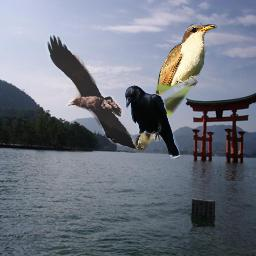Crow: (45, 33, 138, 152), (124, 85, 180, 160)
Cuckoo: (131, 21, 218, 153)
